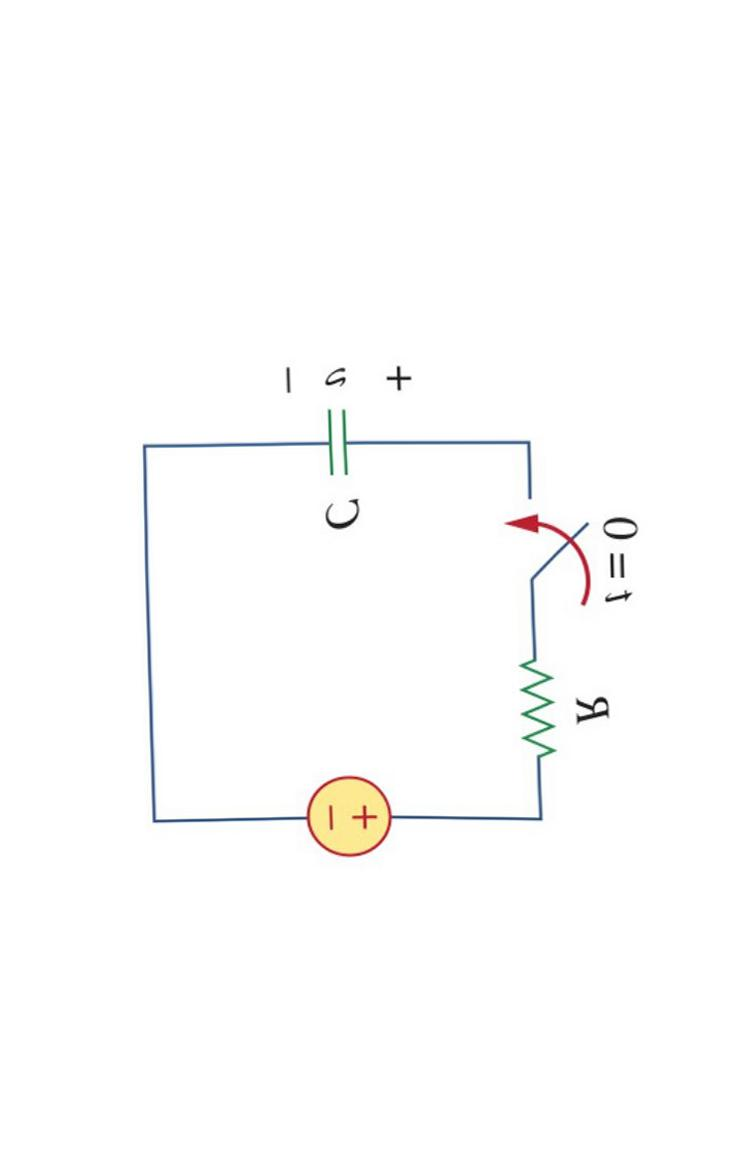Battery: (283, 745, 418, 905)
